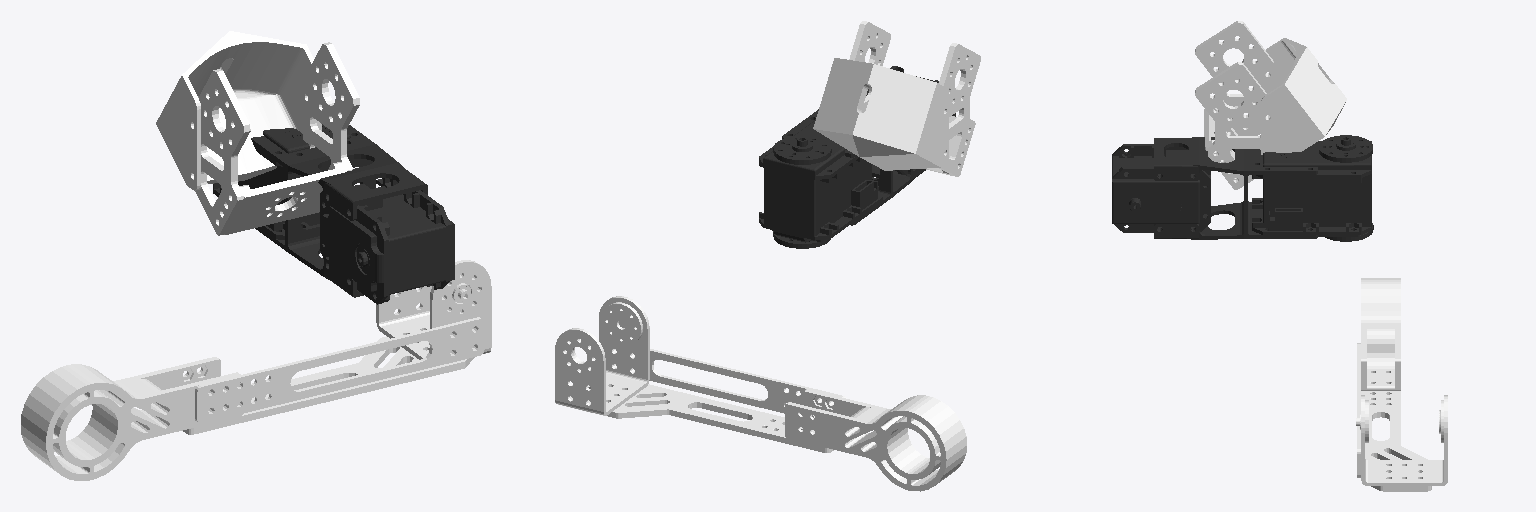
robot.urdf — new_left:
<?xml version="1.0" encoding="utf-8"?>
<!-- This URDF was automatically created by SolidWorks to URDF Exporter! Originally created by [author] ([email redacted]) 
     Commit Version: 1.6.0-4-g7f85cfe  Build Version: 1.6.7995.38578
     For more information, please see http://wiki.ros.org/sw_urdf_exporter -->
<robot
  name="new_left">
  <link
    name="chest">
    <inertial>
      <origin
        xyz="0.0032746 0.00012116 -0.025058"
        rpy="0 0 0" />
      <mass
        value="0.53191" />
      <inertia
        ixx="0.00044413"
        ixy="-1.2132E-09"
        ixz="-2.7092E-06"
        iyy="0.00038389"
        iyz="-3.017E-07"
        izz="0.00029428" />
    </inertial>
    <visual>
      <origin
        xyz="0 0 0"
        rpy="0 0 0" />
      <geometry>
        <mesh
          filename="meshes/chest.STL" />
      </geometry>
      <material
        name="">
        <color
          rgba="1 1 1 1" />
      </material>
    </visual>
    <collision>
      <origin
        xyz="0 0 0"
        rpy="0 0 0" />
      <geometry>
        <mesh
          filename="meshes/chest.STL" />
      </geometry>
    </collision>
  </link>
  <link
    name="left_shoulder">
    <inertial>
      <origin
        xyz="-3.4807E-09 0.023606 -0.0044032"
        rpy="0 0 0" />
      <mass
        value="0.044031" />
      <inertia
        ixx="1.2764E-05"
        ixy="-6.4514E-12"
        ixz="-2.33E-11"
        iyy="1.5491E-05"
        iyz="2.6082E-06"
        izz="1.2414E-05" />
    </inertial>
    <visual>
      <origin
        xyz="0 0 0"
        rpy="0 0 0" />
      <geometry>
        <mesh
          filename="meshes/left_shoulder.STL" />
      </geometry>
      <material
        name="">
        <color
          rgba="1 1 1 1" />
      </material>
    </visual>
    <collision>
      <origin
        xyz="0 0 0"
        rpy="0 0 0" />
      <geometry>
        <mesh
          filename="meshes/left_shoulder.STL" />
      </geometry>
    </collision>
  </link>
  <joint
    name="left_arm_upper"
    type="revolute">
    <origin
      xyz="0.0134 0.0779 0"
      rpy="0 0 0" />
    <parent
      link="chest" />
    <child
      link="left_shoulder" />
    <axis
      xyz="0 1 0" />
    <limit
      lower="0"
      upper="0"
      effort="0"
      velocity="0" />
  </joint>
  <link
    name="left_arm">
    <inertial>
      <origin
        xyz="-0.0279 2.8453E-05 -0.046835"
        rpy="0 0 0" />
      <mass
        value="0.14644" />
      <inertia
        ixx="5.2957E-05"
        ixy="6.2608E-11"
        ixz="-2.025E-07"
        iyy="5.852E-05"
        iyz="1.1014E-07"
        izz="3.6597E-05" />
    </inertial>
    <visual>
      <origin
        xyz="0 0 0"
        rpy="0 0 0" />
      <geometry>
        <mesh
          filename="meshes/left_arm.STL" />
      </geometry>
      <material
        name="">
        <color
          rgba="0.25098 0.25098 0.25098 1" />
      </material>
    </visual>
    <collision>
      <origin
        xyz="0 0 0"
        rpy="0 0 0" />
      <geometry>
        <mesh
          filename="meshes/left_arm.STL" />
      </geometry>
    </collision>
  </link>
  <joint
    name="left_arm_middle"
    type="revolute">
    <origin
      xyz="0.0281 0.0258 -0.029"
      rpy="0 0 0" />
    <parent
      link="left_shoulder" />
    <child
      link="left_arm" />
    <axis
      xyz="-1 0 0" />
    <limit
      lower="0"
      upper="0"
      effort="0"
      velocity="0" />
  </joint>
  <link
    name="left_hand">
    <inertial>
      <origin
        xyz="0.070329 -0.014057 -0.021407"
        rpy="0 0 0" />
      <mass
        value="0.06427" />
      <inertia
        ixx="1.2951E-05"
        ixy="-2.5065E-06"
        ixz="-3.8138E-07"
        iyy="5.8741E-05"
        iyz="1.7885E-12"
        izz="6.1018E-05" />
    </inertial>
    <visual>
      <origin
        xyz="0 0 0"
        rpy="0 0 0" />
      <geometry>
        <mesh
          filename="meshes/left_hand.STL" />
      </geometry>
      <material
        name="">
        <color
          rgba="1 1 1 1" />
      </material>
    </visual>
    <collision>
      <origin
        xyz="0 0 0"
        rpy="0 0 0" />
      <geometry>
        <mesh
          filename="meshes/left_hand.STL" />
      </geometry>
    </collision>
  </link>
  <joint
    name="left_arm_lower"
    type="revolute">
    <origin
      xyz="-0.0281 0.02335 -0.1076"
      rpy="0 0 0" />
    <parent
      link="left_arm" />
    <child
      link="left_hand" />
    <axis
      xyz="0 1 0" />
    <limit
      lower="0"
      upper="0"
      effort="0"
      velocity="0" />
  </joint>
</robot>

--- What the picture shows (computed from the rendered views, not written in the file) ---
The picture shows the robot from 3 angles, left to right: view 1: azimuth 30°, elevation 25°; view 2: azimuth 150°, elevation 25°; view 3: azimuth 270°, elevation 25°; orthographic projection.
Model new_left with 4 links and 3 joints (3 revolute), rooted at chest, posed all joints at 0.
Visible links, largest first — view 1: left_hand, left_shoulder, left_arm; view 2: left_hand, left_shoulder, left_arm; view 3: left_arm, left_shoulder, left_hand.
Link boxes in pixels (x1=…): left_hand: x1=21, y1=260, x2=491, y2=480; left_shoulder: x1=156, y1=31, x2=359, y2=235; left_arm: x1=213, y1=124, x2=454, y2=304; left_hand: x1=555, y1=296, x2=966, y2=491; left_shoulder: x1=813, y1=21, x2=980, y2=176; left_arm: x1=759, y1=66, x2=955, y2=248; left_arm: x1=1112, y1=135, x2=1373, y2=241; left_shoulder: x1=1195, y1=21, x2=1346, y2=189; left_hand: x1=1356, y1=278, x2=1447, y2=491.
Bounding box of the posed robot: 0.2035 × 0.1717 × 0.1988 m (x, y, z).
Meshes: 4 distinct files referenced, 3 mesh visuals loaded (3 binary STL); not drawn: 1 (reference not matched to a file when rendering).